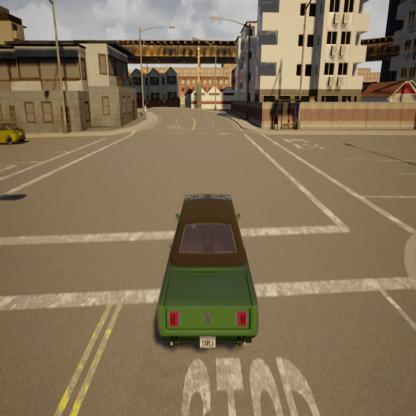Cars: (148, 186, 260, 359), (0, 119, 30, 149), (143, 103, 149, 122)
